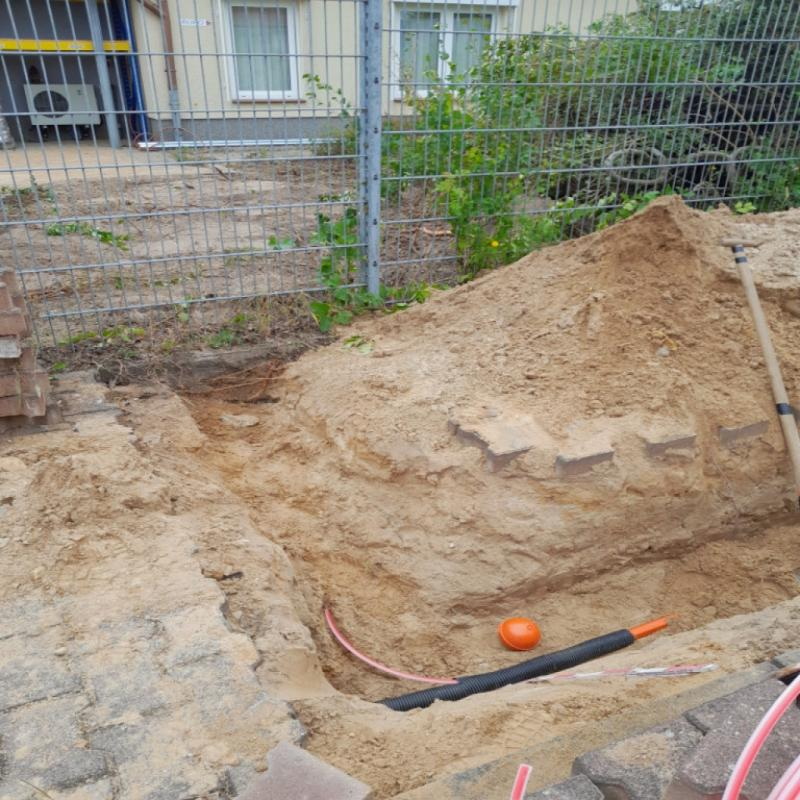Kugelmarker: (497, 615, 543, 652)
Orang-Speednetrohrchen: (611, 613, 681, 645)
